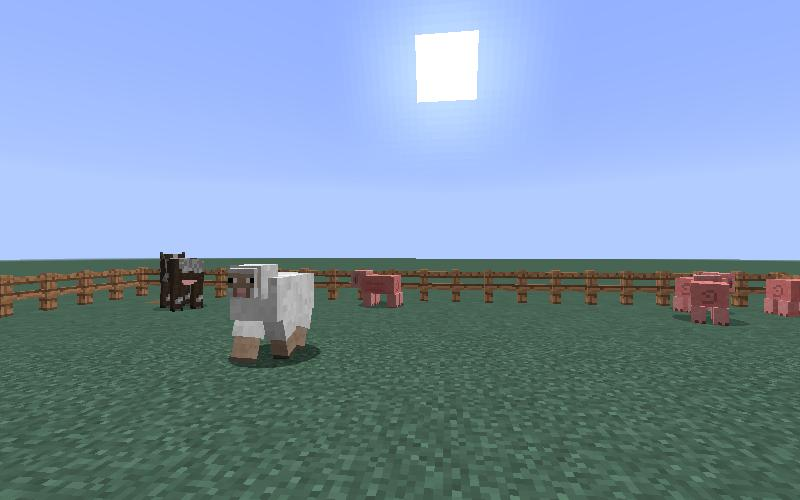cow: (154, 247, 208, 318)
pig: (671, 270, 733, 327), (351, 267, 407, 315), (762, 275, 800, 321)
sheep: (223, 260, 318, 369)
